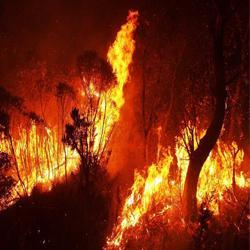fire: (11, 136, 81, 181), (131, 163, 177, 212), (108, 17, 134, 79), (208, 146, 242, 193), (94, 89, 119, 137)
